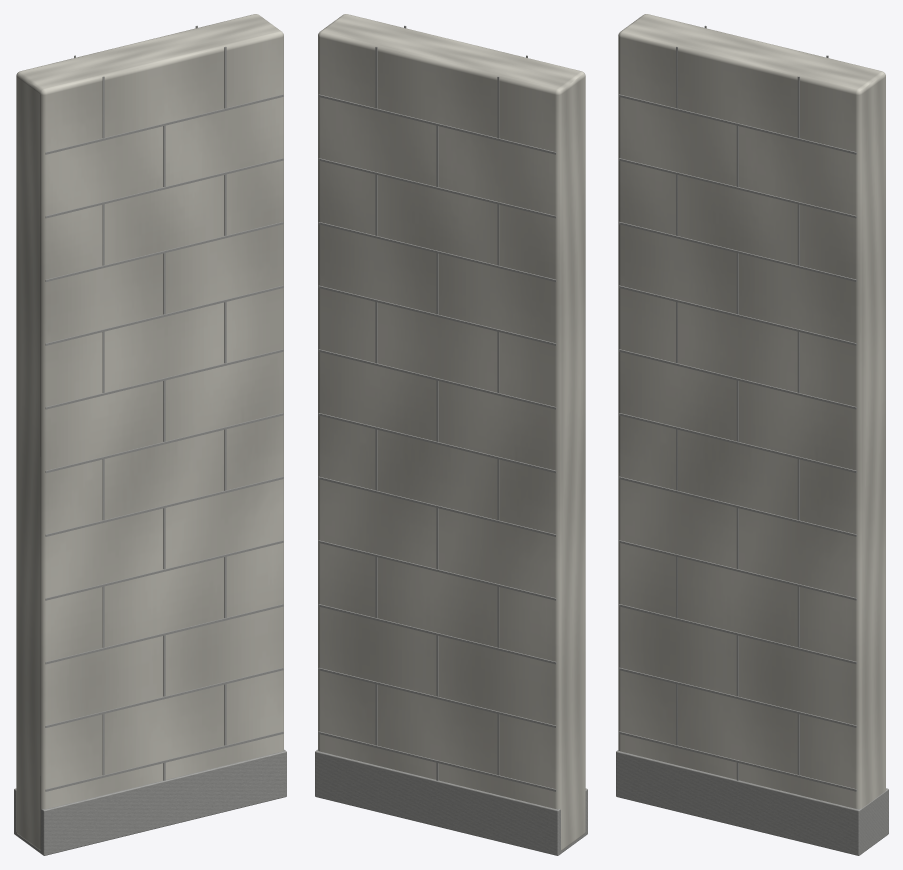
The model's file is prison-complex-builder-concrete-wall-straight-2c9b8ebd__25583.glb.
The picture shows the model from 3 angles, left to right: view 1: azimuth 30°, elevation 25°; view 2: azimuth 150°, elevation 25°; view 3: azimuth 330°, elevation 25°; orthographic projection.
Visible parts, largest first — view 1: concrete-wall-straight; view 2: concrete-wall-straight; view 3: concrete-wall-straight.
Boxes of the visible parts, x1,y1,x2,y2 form: concrete-wall-straight: (14,14,286,855); concrete-wall-straight: (315,14,587,855); concrete-wall-straight: (616,14,888,855).
Size of the model in its own units: 1 by 3 by 0.215.
Materials: 2 (2 with a texture image).
